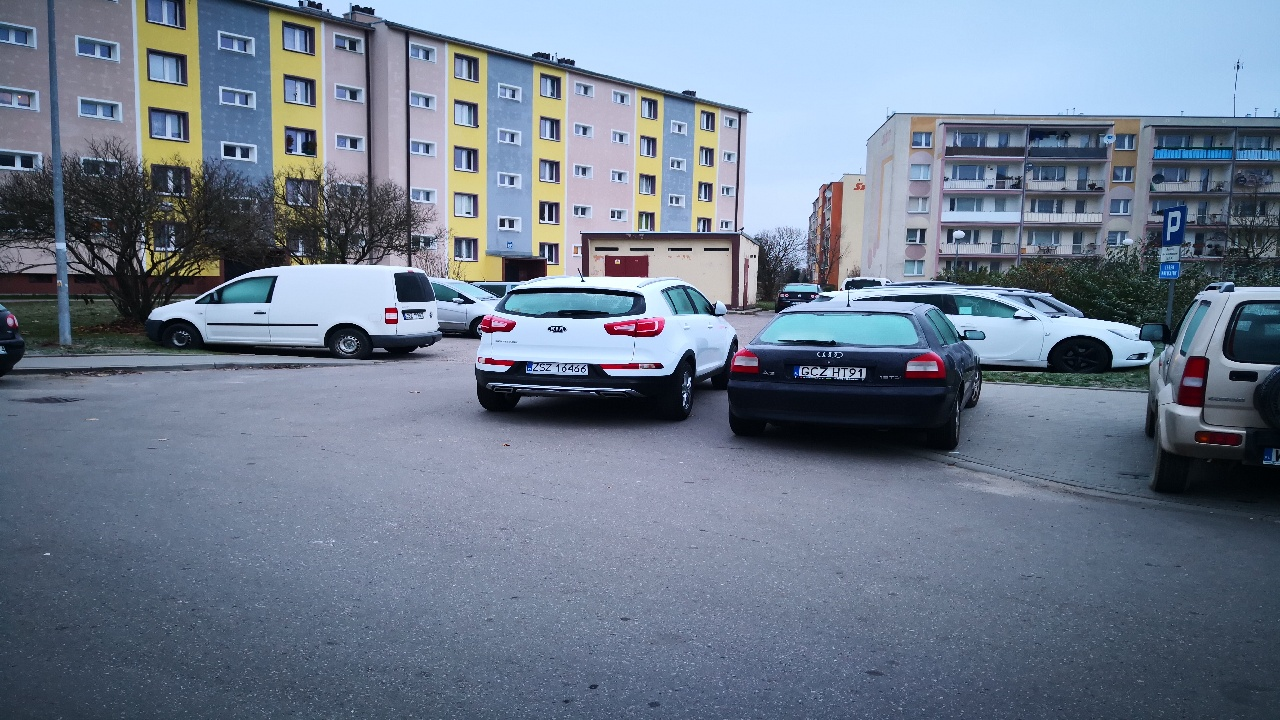D18: (1163, 205, 1185, 246)
